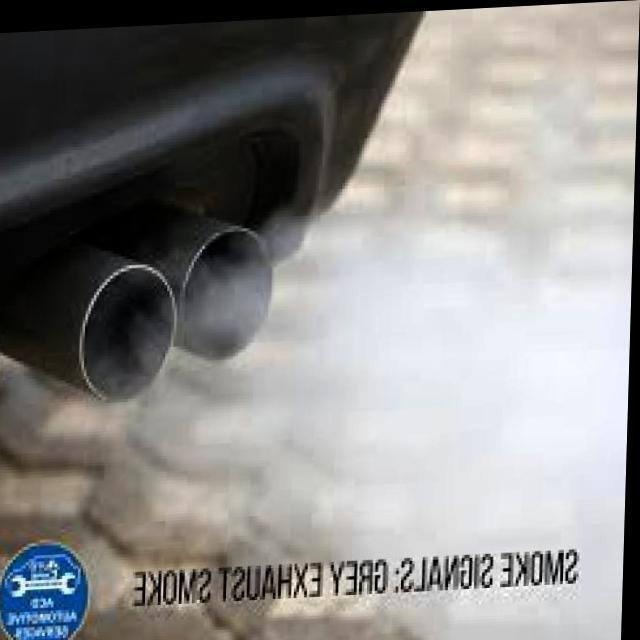Smoke: (55, 177, 636, 640)
